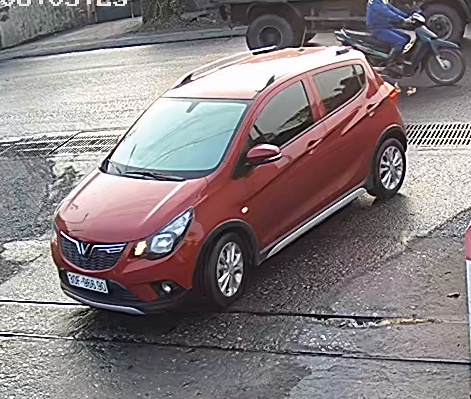vehicle plate: (61, 269, 115, 296)
